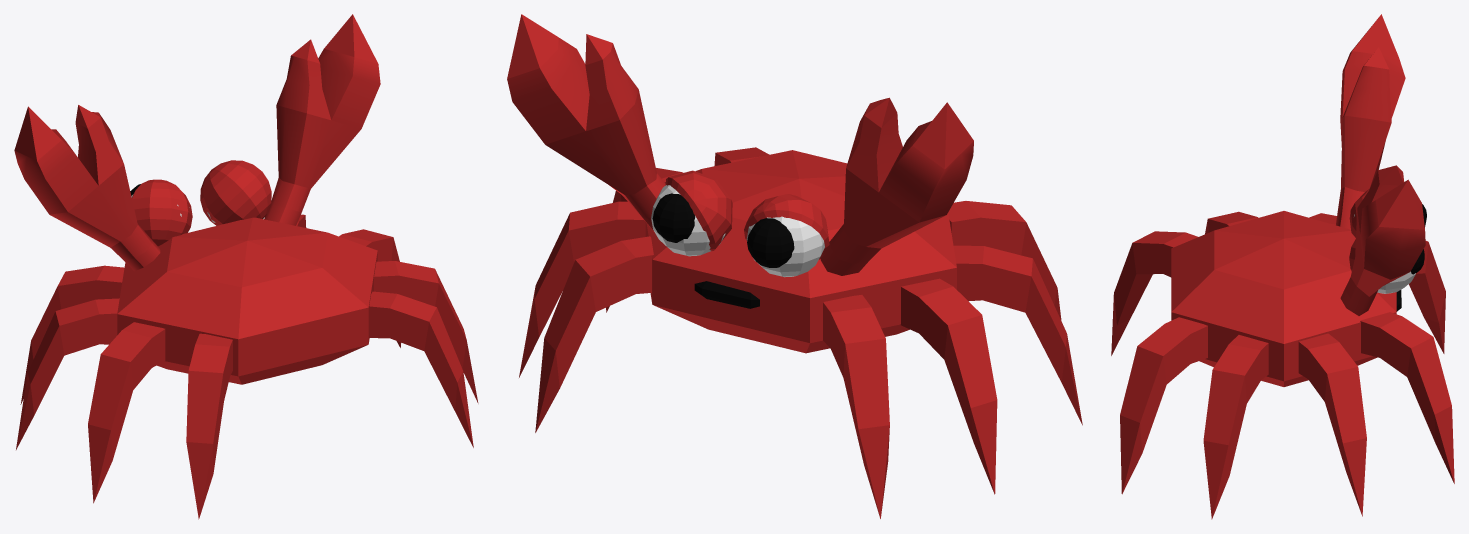
File: Mr. Crabs.fbx
3 renders of one model, left to right at view 1: azimuth 30°, elevation 25°; view 2: azimuth 150°, elevation 25°; view 3: azimuth 270°, elevation 25°, orthographic. The views are drawn at different scales.
Visible parts, largest first — view 1: pasted__pasted__pasted__pSphere1, pasted__pasted__pasted__pasted__pasted__pCube1 (×4), pasted__pasted__pasted__pasted__pasted__pasted__pCube1 (×2), pasted__pasted__pasted__pasted__pCube1 (×2), pasted__pasted__pasted__pasted__pasted__pSphere1, pasted__pasted__pasted__pasted__pasted__pasted__pSphere1, pasted__pasted__pasted__pCube1; view 2: pasted__pasted__pasted__pasted__pasted__pCube1 (×3), pasted__pasted__pasted__pSphere1, pasted__pasted__pasted__pasted__pasted__pasted__pCube1 (×2), pasted__pasted__pasted__pasted__pCube1 (×2), pasted__pasted__pasted__pasted__pasted__pSphere1 (×3), pasted__pasted__pasted__pCube1, pasted__pasted__pasted__pasted__pasted__pasted__pSphere1 (×2), pasted__pasted__pasted__pasted__pSphere1, pasted__pSphere3; view 3: pasted__pasted__pasted__pSphere1, pasted__pasted__pasted__pasted__pasted__pCube1 (×3), pasted__pasted__pasted__pasted__pCube1 (×3), pasted__pasted__pasted__pasted__pasted__pasted__pCube1 (×2), pasted__pasted__pasted__pCube1, pasted__pasted__pasted__pasted__pSphere1.
Part boxes in pixels (x1=…): pasted__pasted__pasted__pSphere1: x1=117, y1=217, x2=377, y2=384; pasted__pasted__pasted__pasted__pasted__pCube1 (×4): x1=14, y1=105, x2=473, y2=519; pasted__pasted__pasted__pasted__pasted__pasted__pCube1 (×2): x1=20, y1=14, x2=380, y2=404; pasted__pasted__pasted__pasted__pCube1 (×2): x1=88, y1=261, x2=478, y2=503; pasted__pasted__pasted__pasted__pasted__pSphere1: x1=200, y1=160, x2=271, y2=225; pasted__pasted__pasted__pasted__pasted__pasted__pSphere1: x1=132, y1=179, x2=192, y2=246; pasted__pasted__pasted__pCube1: x1=339, y1=229, x2=400, y2=347; pasted__pasted__pasted__pasted__pasted__pCube1 (×3): x1=820, y1=97, x2=1061, y2=494; pasted__pasted__pasted__pSphere1: x1=645, y1=150, x2=956, y2=353; pasted__pasted__pasted__pasted__pasted__pasted__pCube1 (×2): x1=507, y1=14, x2=889, y2=518; pasted__pasted__pasted__pasted__pCube1 (×2): x1=535, y1=236, x2=1082, y2=432; pasted__pasted__pasted__pasted__pasted__pSphere1 (×3): x1=652, y1=170, x2=824, y2=277; pasted__pasted__pasted__pCube1: x1=519, y1=201, x2=645, y2=377; pasted__pasted__pasted__pasted__pasted__pasted__pSphere1 (×2): x1=744, y1=194, x2=829, y2=267; pasted__pasted__pasted__pasted__pSphere1: x1=651, y1=185, x2=725, y2=256; pasted__pSphere3: x1=694, y1=281, x2=759, y2=308; pasted__pasted__pasted__pSphere1: x1=1171, y1=211, x2=1396, y2=386; pasted__pasted__pasted__pasted__pasted__pCube1 (×3): x1=1111, y1=14, x2=1405, y2=494; pasted__pasted__pasted__pasted__pCube1 (×3): x1=1203, y1=211, x2=1454, y2=519; pasted__pasted__pasted__pasted__pasted__pasted__pCube1 (×2): x1=1340, y1=165, x2=1445, y2=353; pasted__pasted__pasted__pCube1: x1=1298, y1=333, x2=1366, y2=516; pasted__pasted__pasted__pasted__pSphere1: x1=1377, y1=271, x2=1415, y2=293.
Size of the model in its own units: 2.5 by 2 by 1.89.
